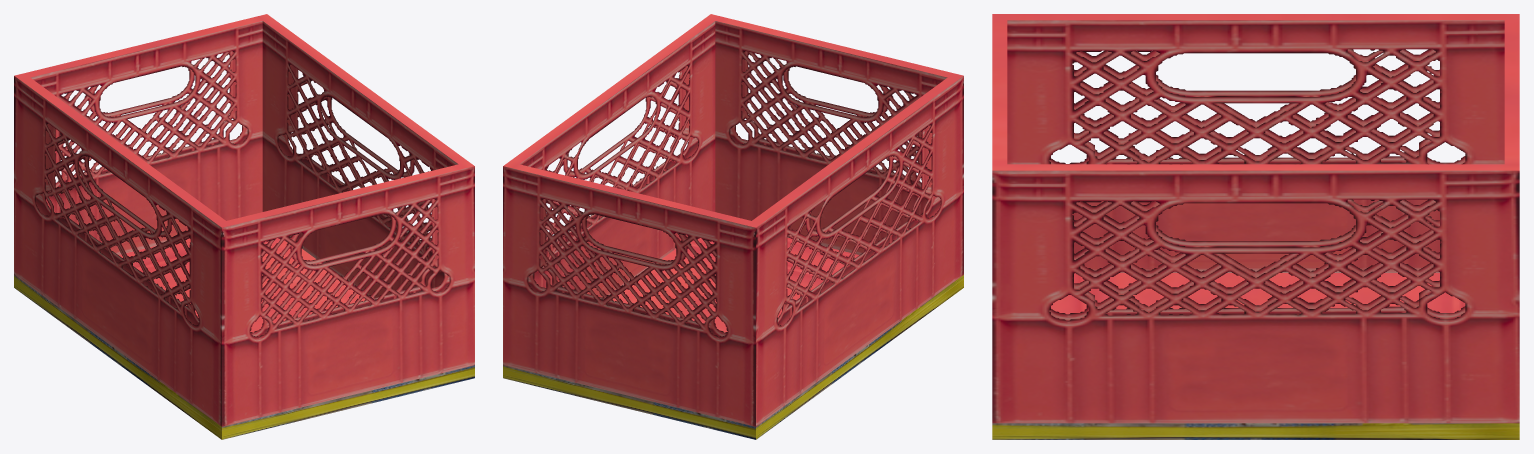
File: cargo-box01.fbx
The picture shows the model from 3 angles, left to right: view 1: azimuth 30°, elevation 25°; view 2: azimuth 150°, elevation 25°; view 3: azimuth 270°, elevation 25°; orthographic projection. The views are drawn at different scales.
Parts seen in each view (by area): view 1: Mesh; view 2: Mesh; view 3: Mesh.
Part boxes in pixels (bbox=[...]): Mesh: bbox=[14, 14, 474, 439]; Mesh: bbox=[503, 14, 963, 439]; Mesh: bbox=[992, 14, 1519, 439].
Size of the model in its own units: 49.49 by 39.68 by 70.45.
